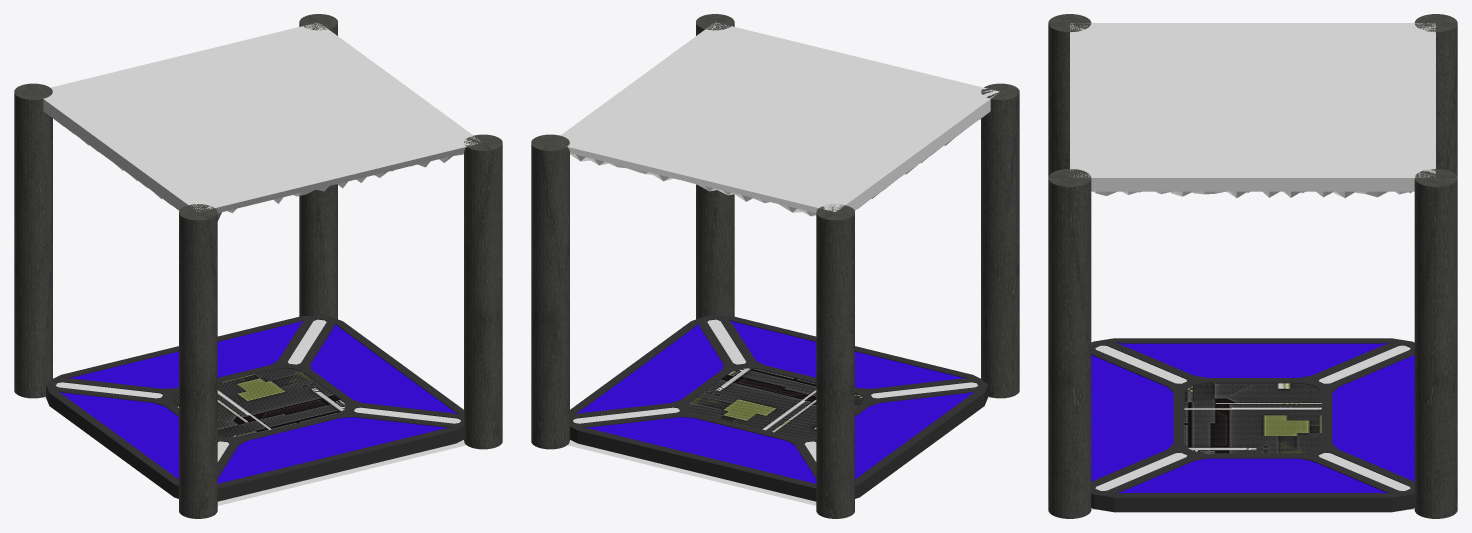
Rendered from room_open_4.fbx.
3 renders of one model, left to right at view 1: azimuth 30°, elevation 25°; view 2: azimuth 150°, elevation 25°; view 3: azimuth 270°, elevation 25°, orthographic. The views are drawn at different scales.
Parts seen in each view (by area): view 1: Cube, Cube.005; view 2: Cube, Cube.005; view 3: Cube, Cube.005.
Part boxes in pixels (x1,y1,x2,y2): Cube: (14, 14, 502, 518); Cube.005: (46, 315, 463, 501); Cube: (531, 14, 1019, 518); Cube.005: (570, 315, 987, 501); Cube: (1048, 14, 1457, 518); Cube.005: (1091, 338, 1414, 512).
Bounding box in the file's own units: 1900 × 1701 × 1900.
